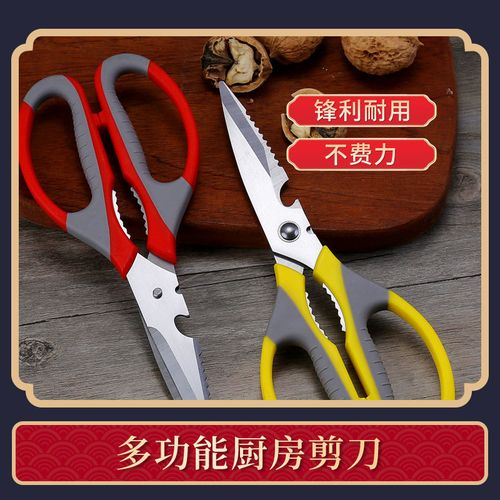scissor: (20, 53, 208, 401)
